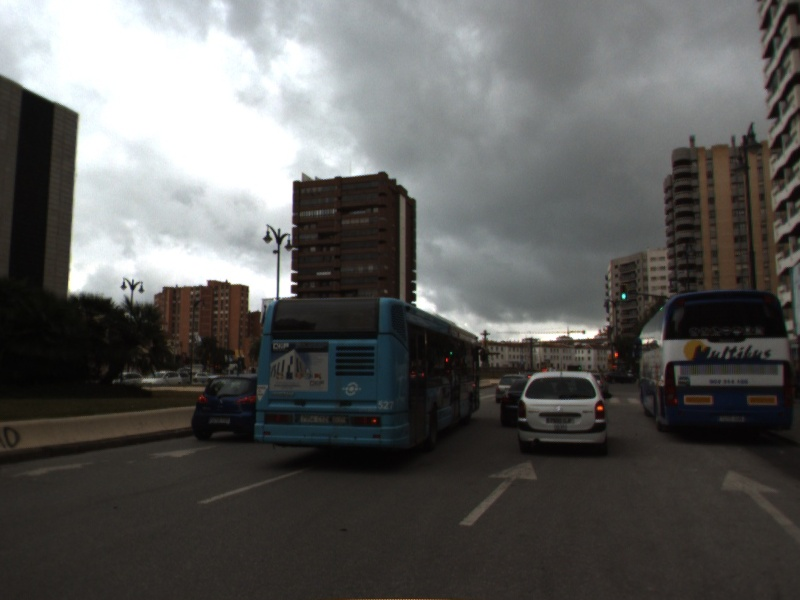STRAIGHT: (718, 467, 800, 542), (456, 458, 540, 528)
